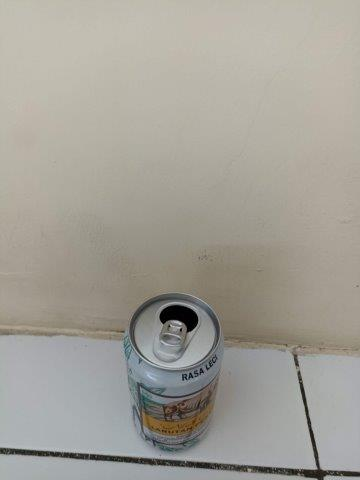kaleng: (125, 292, 223, 450)
